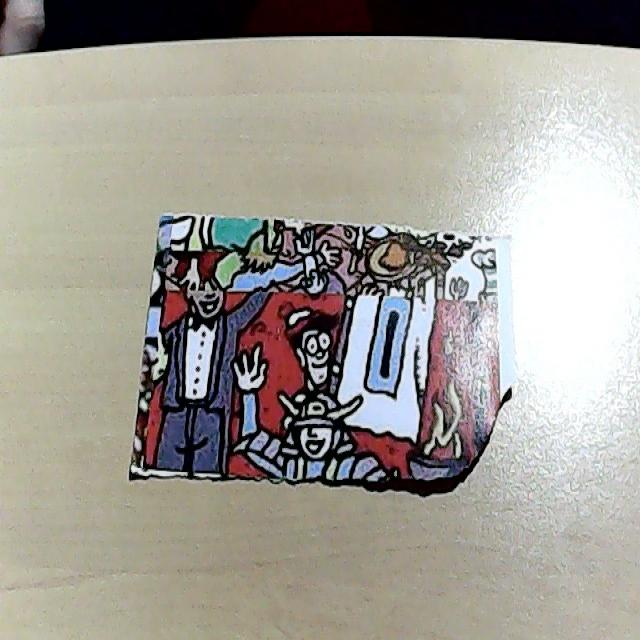waldo: (277, 301, 339, 388)
